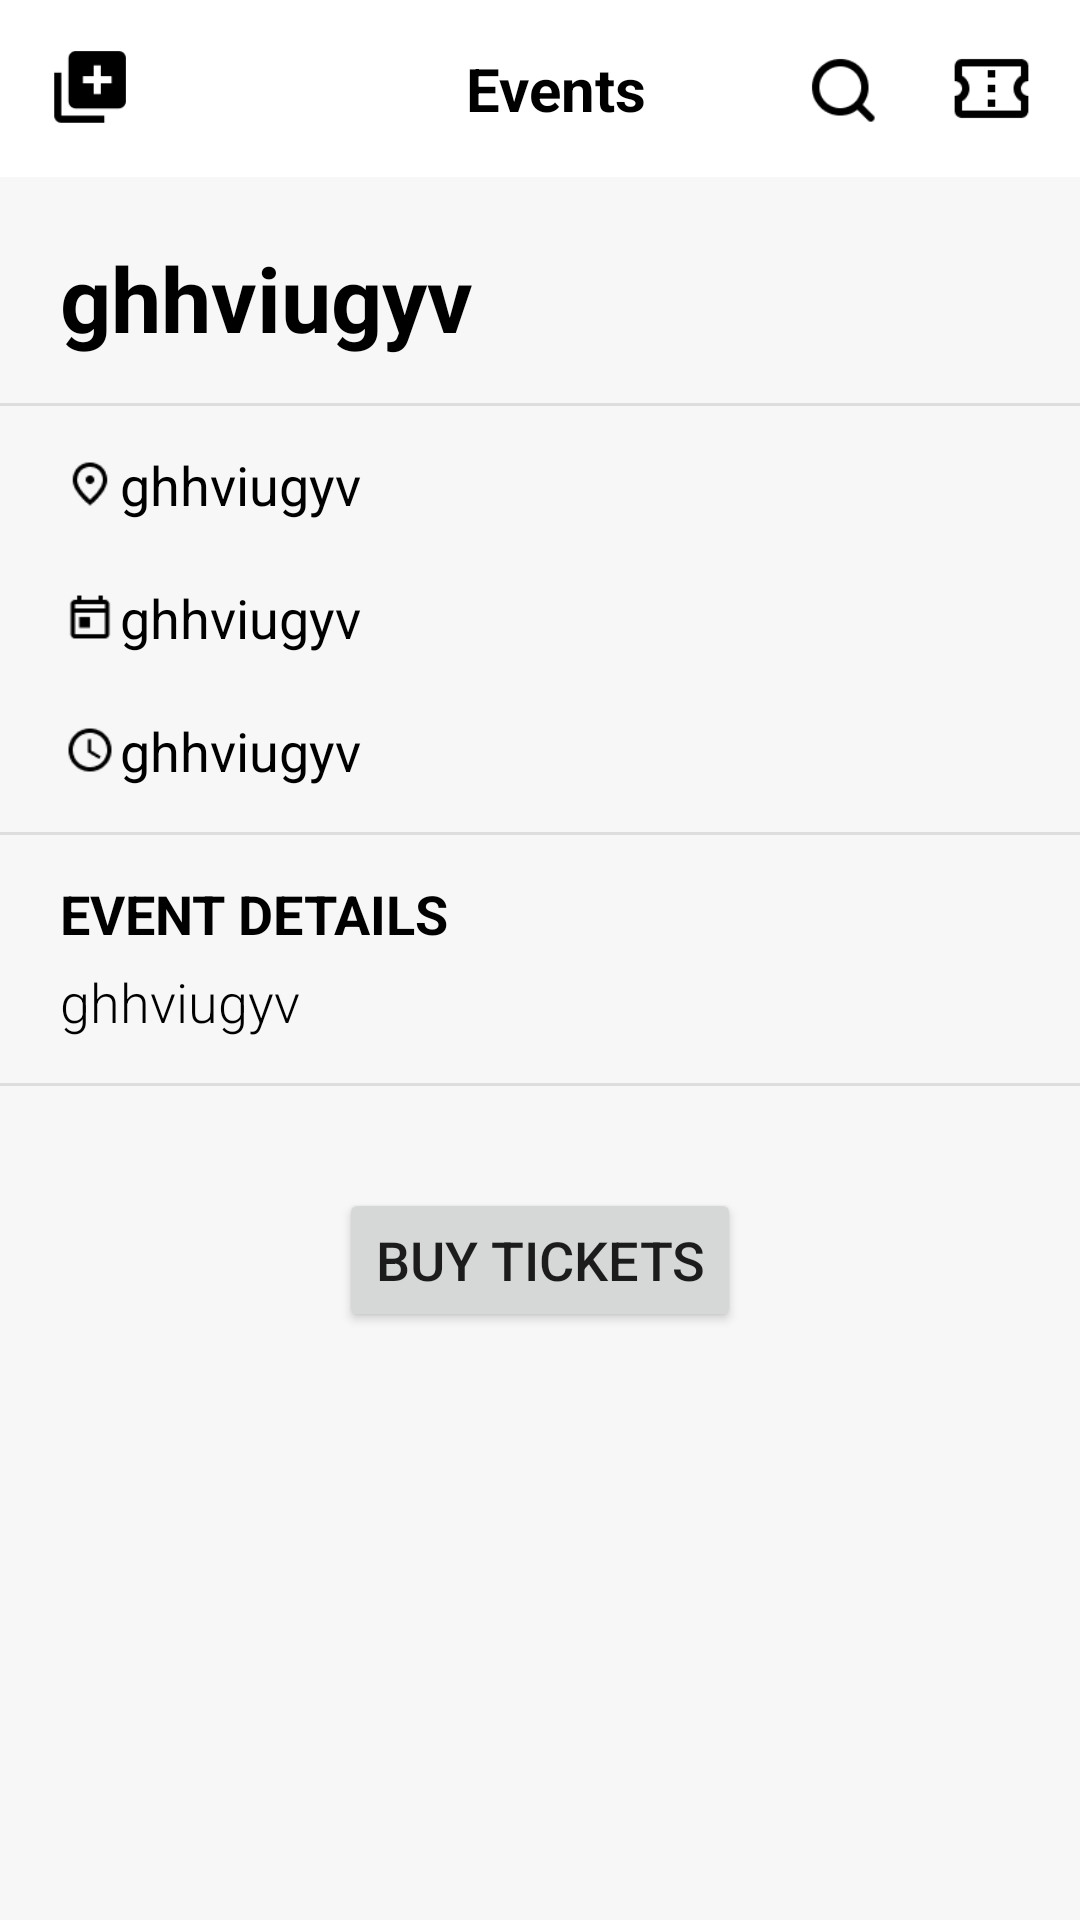

Named icons in this screenshot (1080px×1920px) and their bounding boxes, [x1,y1,x2,y2]:
event date: [70,595,110,639]
event time: [68,728,112,772]
location: [72,462,108,506]
search: [812,59,875,122]
tickets: [954,59,1029,118]
